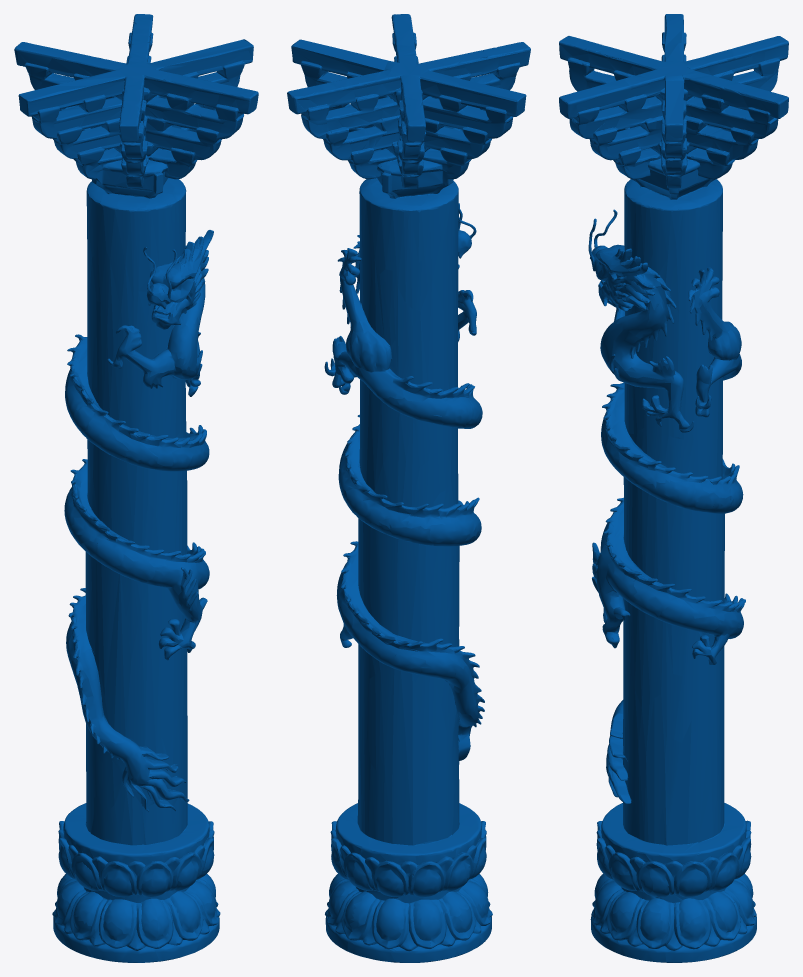
File: dragon_pillar.glb
The picture shows the model from 3 angles, left to right: view 1: azimuth 30°, elevation 25°; view 2: azimuth 150°, elevation 25°; view 3: azimuth 270°, elevation 25°; orthographic projection.
Parts seen in each view (by area): view 1: Mesh_0; view 2: Mesh_0; view 3: Mesh_0.
Part boxes in pixels (left/top/right/bottom): Mesh_0: left=14, top=14, right=258, bottom=962; Mesh_0: left=287, top=14, right=530, bottom=962; Mesh_0: left=559, top=14, right=788, bottom=962.
Bounding box in the file's own units: 1.8 × 6.5 × 1.58.
Materials: 1 (1 with a texture image).
